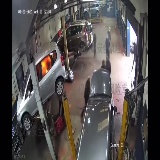fire: (40, 51, 54, 79)
